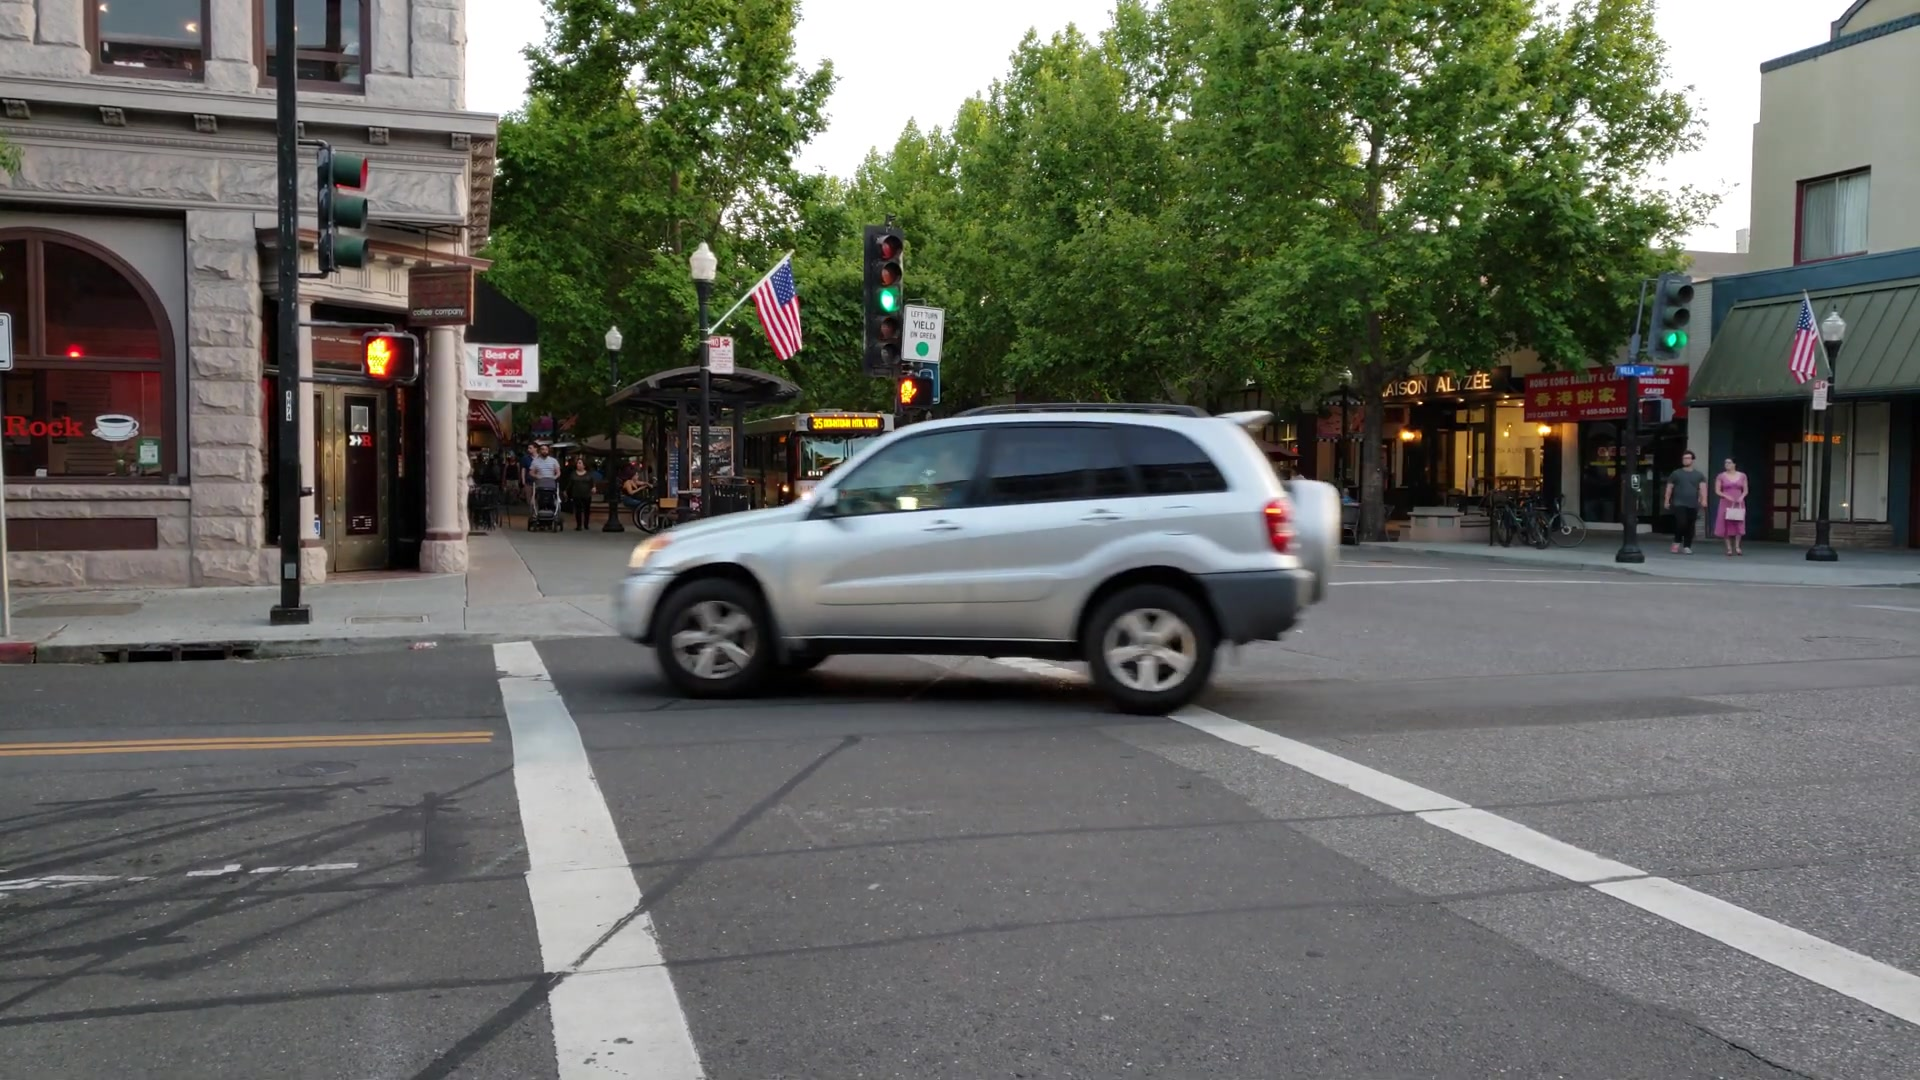vehicle: (622, 400, 1342, 716)
